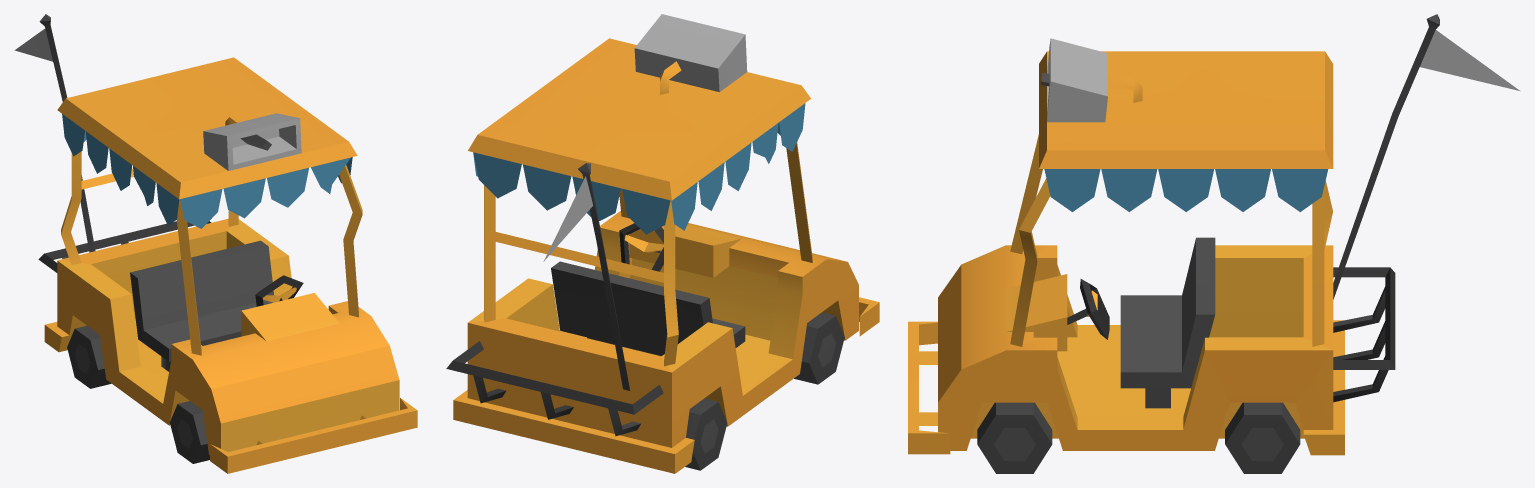
File: golfcar.fbx
3 views of the same model, side by side, from view 1: azimuth 30°, elevation 25°; view 2: azimuth 150°, elevation 25°; view 3: azimuth 270°, elevation 25° (orthographic). The views are drawn at different scales.
Parts seen in each view (by area): view 1: daily_golfcart1_Material50_0; view 2: daily_golfcart1_Material50_0; view 3: daily_golfcart1_Material50_0.
Boxes of the visible parts, box(x1,y1,x2,y2) form: daily_golfcart1_Material50_0: box(14, 14, 417, 473); daily_golfcart1_Material50_0: box(446, 14, 879, 473); daily_golfcart1_Material50_0: box(908, 14, 1520, 473).
Size of the model in its own units: 125 by 189 by 283.
